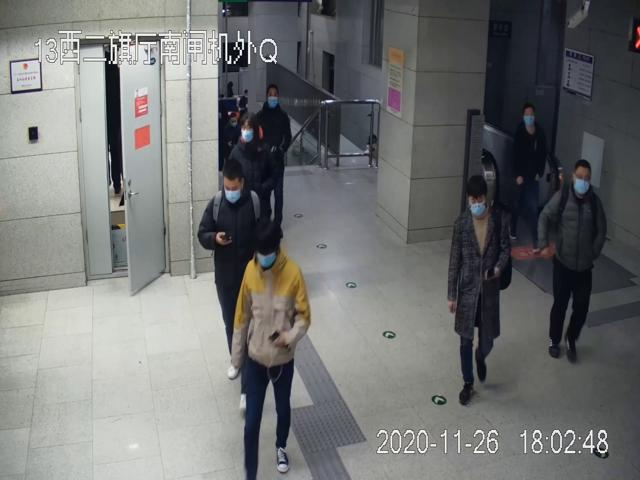person: (227, 219, 312, 480), (444, 172, 513, 409), (536, 156, 610, 364), (197, 158, 267, 349), (504, 102, 549, 248), (258, 83, 293, 231), (228, 110, 271, 198)
